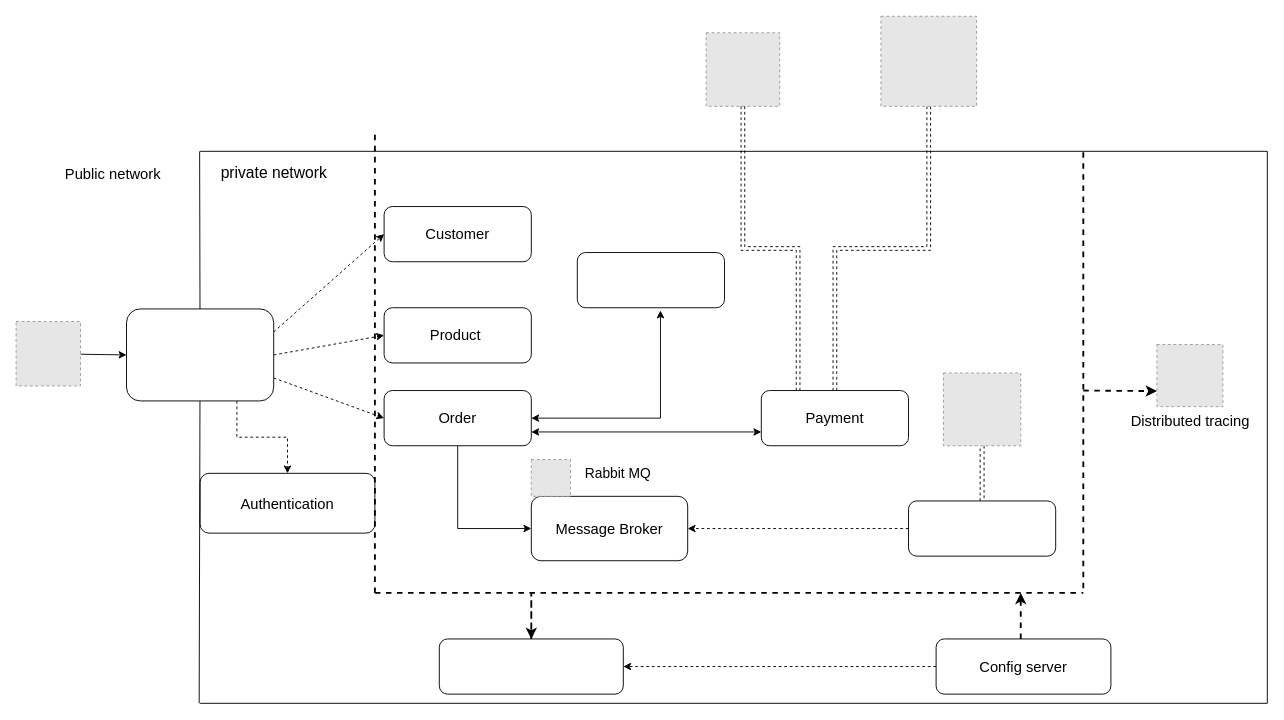
Image size: 1284x720. Some labels were removed from this diagram. Grey dashed boxes stand in for pictures. The centre of each missing label's shape, as x and y in pixels:
API gateway: (200,354)
Eureka server: (530,666)
inventory: (650,280)
Notification: (982,528)
